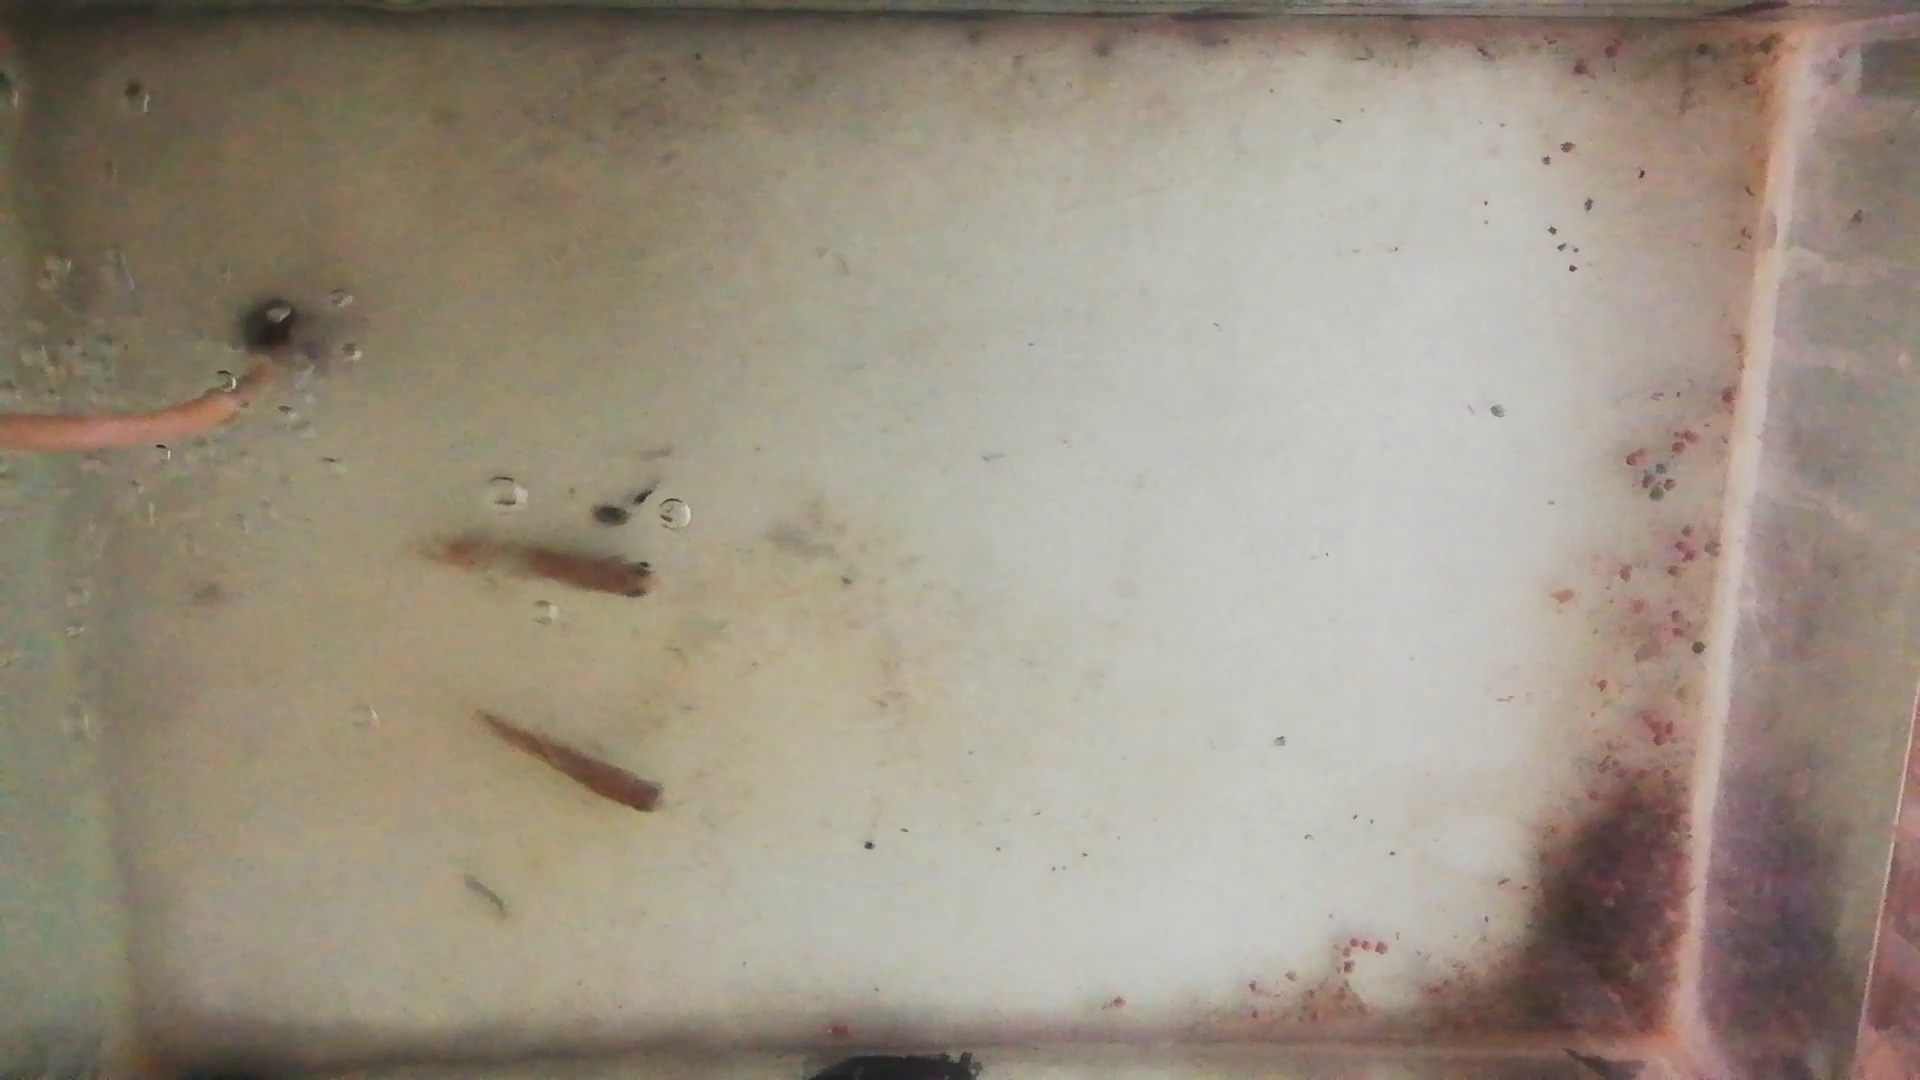fish: (472, 711, 667, 815), (411, 533, 655, 603)
